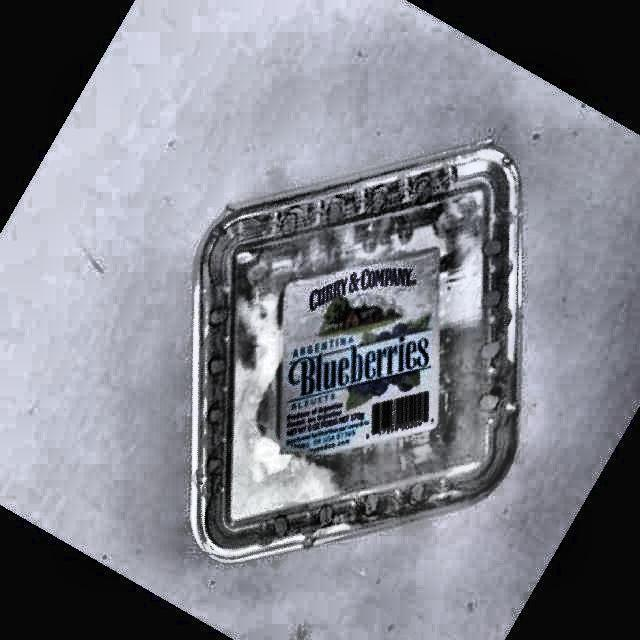plastic: (192, 145, 519, 560)
